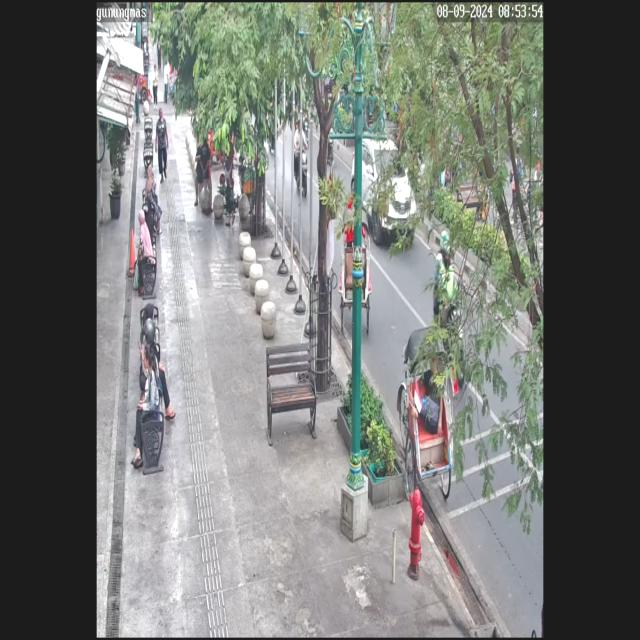Car: (350, 136, 420, 252)
Motorcycle: (338, 174, 371, 266), (436, 240, 464, 348), (293, 119, 315, 203)
